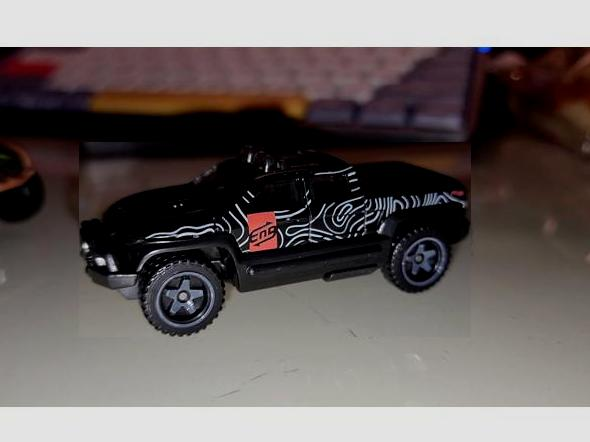toy-car: (79, 142, 471, 337), (0, 133, 46, 248)
